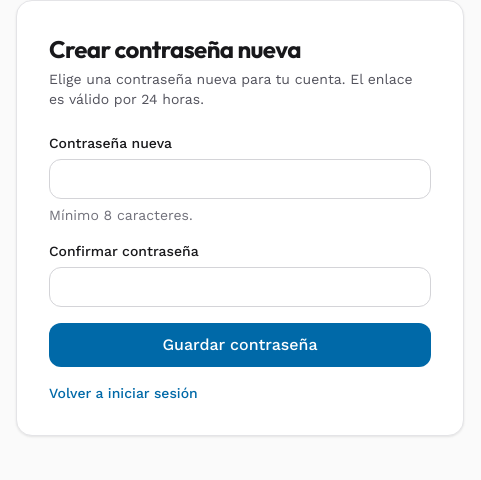
Test: ResetPasswordPage › restablece la contraseña con el token del enlace
The image size is (481, 480).
Type "nueva-contrasena" into the password field labelled "Contraseña nueva" at (240, 179), box [49,159,431,199]
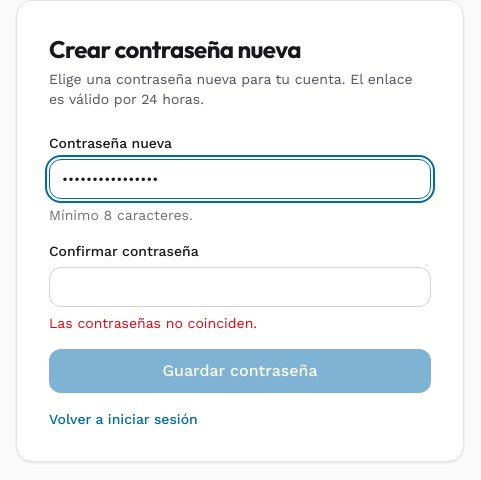
Type "nueva-contrasena" into the password field labelled "Confirmar contraseña" at (240, 287), box [49,267,431,307]
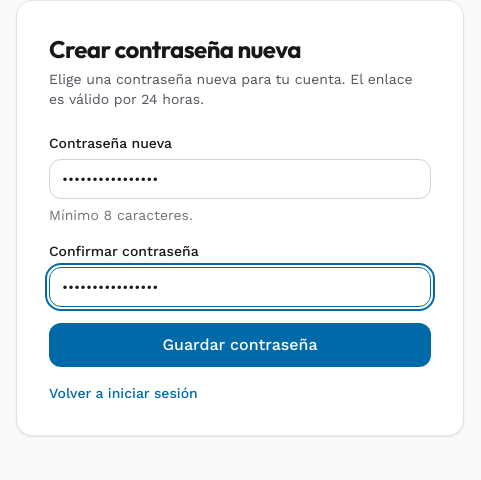
Click the button "Guardar contraseña" at (240, 345), box [49,323,431,367]
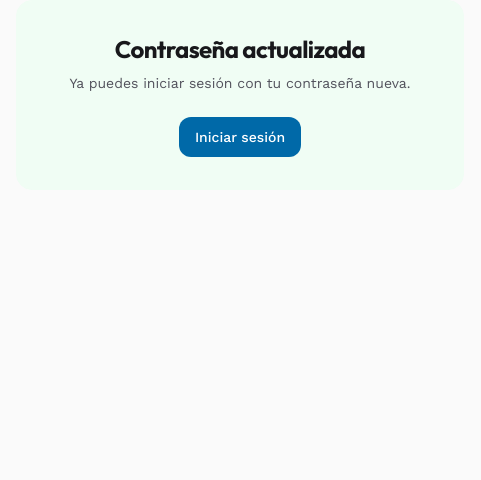
Expected: the heading "Contraseña actualizada" is shown, [115,34,365,64]
